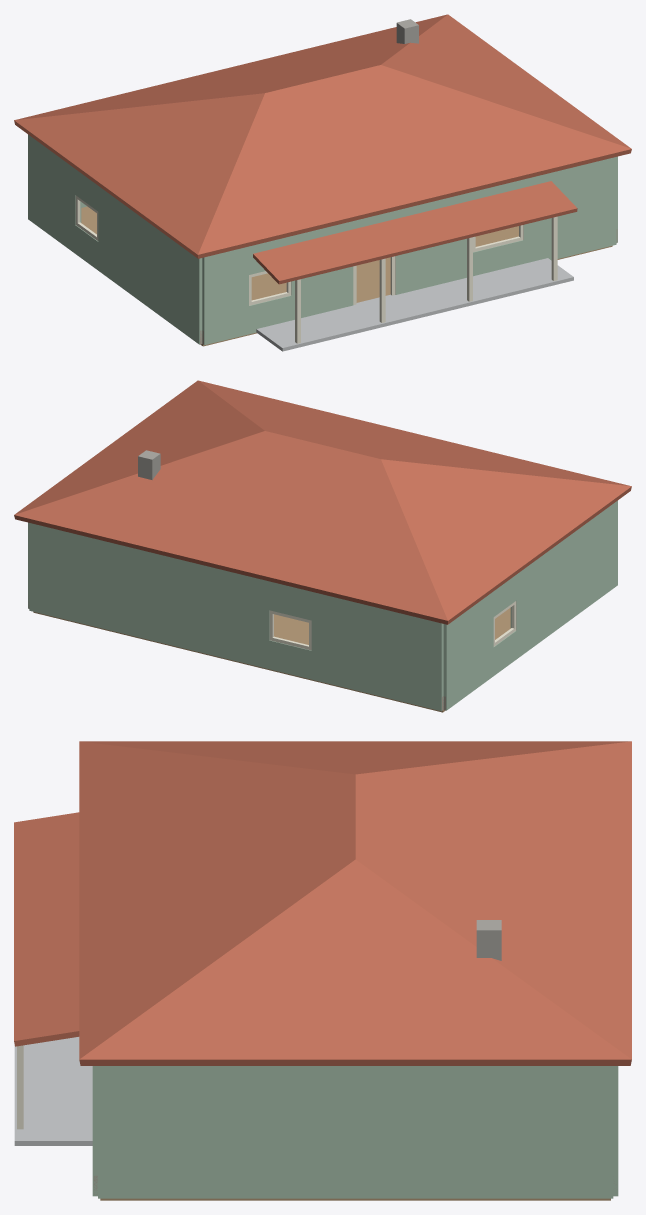
Rendered from Canada_Alberta_VerandaFarmhouse_Enterable.glb.
The picture shows the model from 3 angles, top to bottom: view 1: azimuth 30°, elevation 25°; view 2: azimuth 150°, elevation 25°; view 3: azimuth 270°, elevation 25°; orthographic projection. The views are drawn at different scales.
Parts seen in each view (by area): view 1: FTF_Alberta_VerandaFarmhouse_Enterable_v6_HipRoof, FTF_Alberta_VerandaFarmhouse_Enterable_v6_VerandaRoof, FTF_Alberta_VerandaFarmhouse_Enterable_v6_VerandaSlab, FTF_Alberta_VerandaFarmhouse_Enterable_v6_LeftWall_Piece_01, FTF_Alberta_VerandaFarmhouse_Enterable_v6_LeftWall_Piece_00, FTF_Alberta_VerandaFarmhouse_Enterable_v6_FloorMesh, FTF_Alberta_VerandaFarmhouse_Enterable_v6_LeftWall_Piece_02, FTF_Alberta_VerandaFarmhouse_Enterable_v6_FrontWall_Piece_27, FTF_Alberta_VerandaFarmhouse_Enterable_v6_FrontWall_Piece_29, FTF_Alberta_VerandaFarmhouse_Enterable_v6_FrontWall_Piece_18, FTF_Alberta_VerandaFarmhouse_Enterable_v6_FrontWall_Piece_32, FTF_Alberta_VerandaFarmhouse_Enterable_v6_LeftWall_Piece_06 (+15 smaller); view 2: FTF_Alberta_VerandaFarmhouse_Enterable_v6_HipRoof, FTF_Alberta_VerandaFarmhouse_Enterable_v6_BackWall_Piece_06, FTF_Alberta_VerandaFarmhouse_Enterable_v6_BackWall_Piece_07, FTF_Alberta_VerandaFarmhouse_Enterable_v6_BackWall_Piece_05, FTF_Alberta_VerandaFarmhouse_Enterable_v6_BackWall_Piece_01, FTF_Alberta_VerandaFarmhouse_Enterable_v6_BackWall_Piece_02, FTF_Alberta_VerandaFarmhouse_Enterable_v6_BackWall_Piece_00, FTF_Alberta_VerandaFarmhouse_Enterable_v6_LeftWall_Piece_01, FTF_Alberta_VerandaFarmhouse_Enterable_v6_LeftWall_Piece_00, FTF_Alberta_VerandaFarmhouse_Enterable_v6_LeftWall_Piece_02, FTF_Alberta_VerandaFarmhouse_Enterable_v6_FloorMesh, FTF_Alberta_VerandaFarmhouse_Enterable_v6_LeftWall_Piece_06 (+7 smaller); view 3: FTF_Alberta_VerandaFarmhouse_Enterable_v6_HipRoof, FTF_Alberta_VerandaFarmhouse_Enterable_v6_RightWall_Piece_00, FTF_Alberta_VerandaFarmhouse_Enterable_v6_VerandaRoof, FTF_Alberta_VerandaFarmhouse_Enterable_v6_VerandaSlab, FTF_Alberta_VerandaFarmhouse_Enterable_v6_FloorMesh, FTF_Alberta_VerandaFarmhouse_Enterable_v6_Chimney.
Part boxes in pixels (x1,y1,x2,y2): FTF_Alberta_VerandaFarmhouse_Enterable_v6_HipRoof: (14, 14, 631, 258); FTF_Alberta_VerandaFarmhouse_Enterable_v6_VerandaRoof: (253, 181, 577, 284); FTF_Alberta_VerandaFarmhouse_Enterable_v6_VerandaSlab: (256, 258, 573, 351); FTF_Alberta_VerandaFarmhouse_Enterable_v6_LeftWall_Piece_01: (98, 212, 202, 315); FTF_Alberta_VerandaFarmhouse_Enterable_v6_LeftWall_Piece_00: (98, 242, 202, 344); FTF_Alberta_VerandaFarmhouse_Enterable_v6_FloorMesh: (81, 206, 612, 346); FTF_Alberta_VerandaFarmhouse_Enterable_v6_LeftWall_Piece_02: (98, 186, 202, 285); FTF_Alberta_VerandaFarmhouse_Enterable_v6_FrontWall_Piece_27: (524, 217, 616, 263); FTF_Alberta_VerandaFarmhouse_Enterable_v6_FrontWall_Piece_29: (523, 185, 616, 238); FTF_Alberta_VerandaFarmhouse_Enterable_v6_FrontWall_Piece_18: (395, 254, 466, 294); FTF_Alberta_VerandaFarmhouse_Enterable_v6_FrontWall_Piece_32: (524, 157, 616, 191); FTF_Alberta_VerandaFarmhouse_Enterable_v6_LeftWall_Piece_06: (28, 160, 81, 224); FTF_Alberta_VerandaFarmhouse_Enterable_v6_HipRoof: (14, 380, 631, 624); FTF_Alberta_VerandaFarmhouse_Enterable_v6_BackWall_Piece_06: (29, 552, 269, 640); FTF_Alberta_VerandaFarmhouse_Enterable_v6_BackWall_Piece_07: (29, 523, 269, 609); FTF_Alberta_VerandaFarmhouse_Enterable_v6_BackWall_Piece_05: (29, 582, 269, 668); FTF_Alberta_VerandaFarmhouse_Enterable_v6_BackWall_Piece_01: (311, 620, 443, 682); FTF_Alberta_VerandaFarmhouse_Enterable_v6_BackWall_Piece_02: (311, 592, 443, 652); FTF_Alberta_VerandaFarmhouse_Enterable_v6_BackWall_Piece_00: (311, 651, 443, 711); FTF_Alberta_VerandaFarmhouse_Enterable_v6_LeftWall_Piece_01: (510, 526, 617, 630); FTF_Alberta_VerandaFarmhouse_Enterable_v6_LeftWall_Piece_00: (516, 557, 617, 658); FTF_Alberta_VerandaFarmhouse_Enterable_v6_LeftWall_Piece_02: (516, 500, 617, 599); FTF_Alberta_VerandaFarmhouse_Enterable_v6_FloorMesh: (33, 608, 510, 712); FTF_Alberta_VerandaFarmhouse_Enterable_v6_LeftWall_Piece_06: (443, 617, 493, 681); FTF_Alberta_VerandaFarmhouse_Enterable_v6_HipRoof: (79, 741, 631, 1065); FTF_Alberta_VerandaFarmhouse_Enterable_v6_RightWall_Piece_00: (98, 1066, 613, 1198); FTF_Alberta_VerandaFarmhouse_Enterable_v6_VerandaRoof: (14, 812, 79, 1046); FTF_Alberta_VerandaFarmhouse_Enterable_v6_VerandaSlab: (14, 1037, 92, 1145); FTF_Alberta_VerandaFarmhouse_Enterable_v6_FloorMesh: (100, 1198, 610, 1200); FTF_Alberta_VerandaFarmhouse_Enterable_v6_Chimney: (476, 920, 501, 960).
Bounding box in the file's own units: 15.79 × 5.4 × 12.95.
